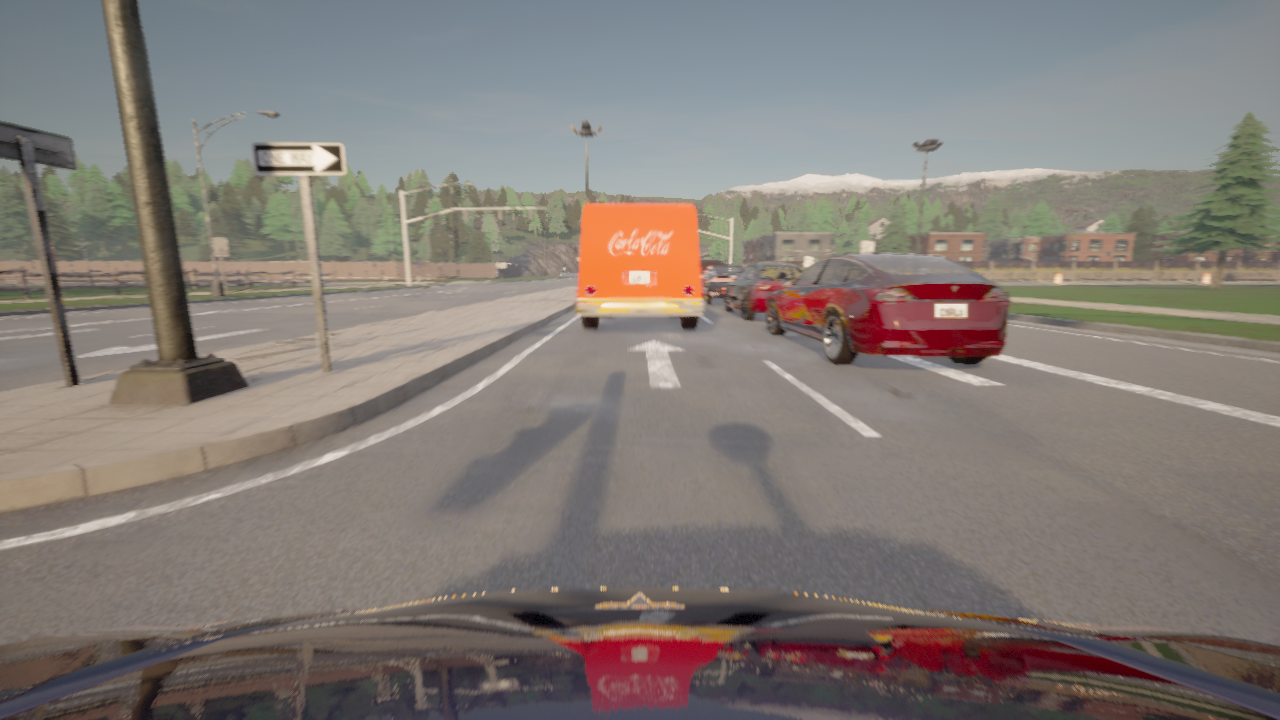cyclist: (0, 588, 1279, 719), (767, 254, 1011, 365), (576, 204, 705, 329), (723, 263, 802, 320), (700, 266, 743, 305), (699, 260, 723, 276)
